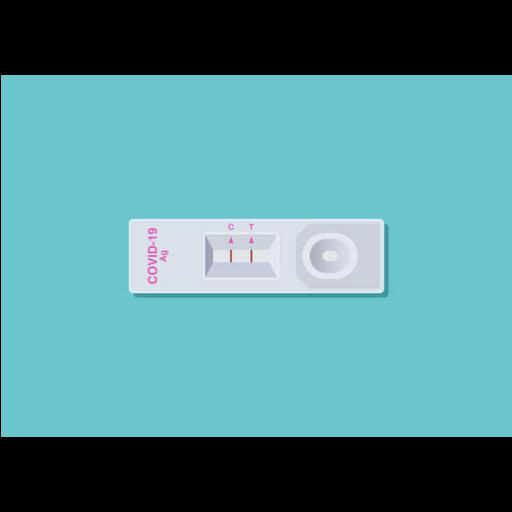Pos: (130, 216, 384, 292)
